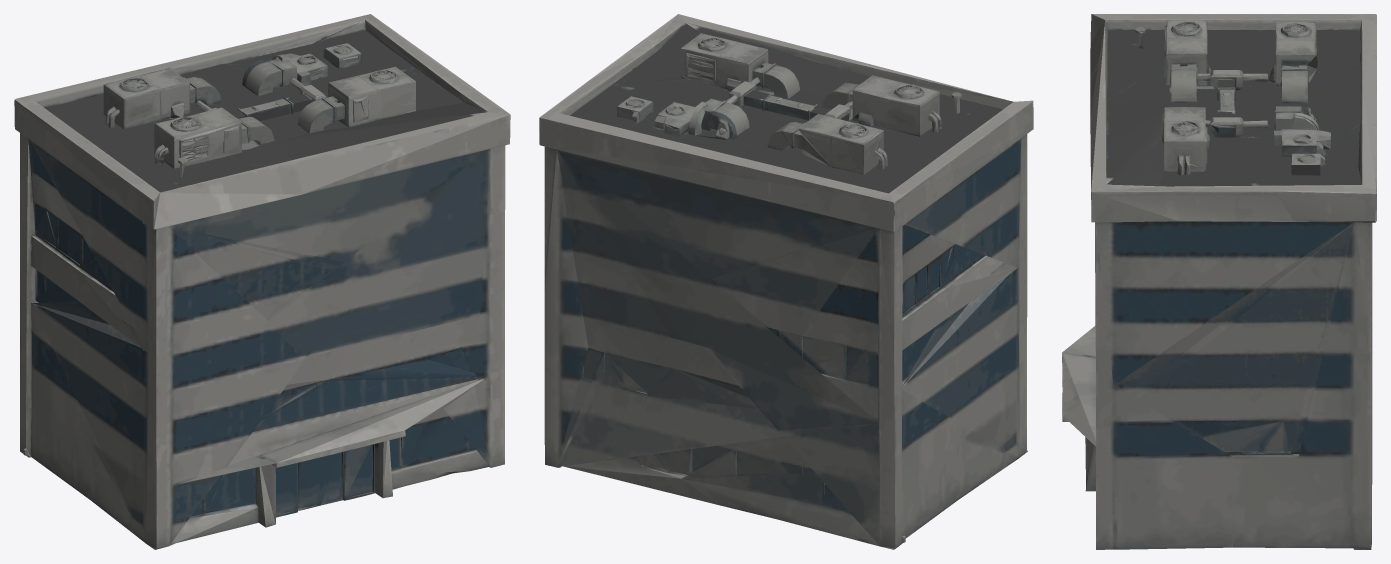
File: dea.glb
The picture shows the model from 3 angles, left to right: view 1: azimuth 30°, elevation 25°; view 2: azimuth 150°, elevation 25°; view 3: azimuth 270°, elevation 25°; orthographic projection. The views are drawn at different scales.
Parts seen in each view (by area): view 1: placed; view 2: placed; view 3: placed.
Boxes of the visible parts, <box> form: placed: <box>14,14,510,549</box>; placed: <box>539,14,1033,549</box>; placed: <box>1062,14,1376,549</box>.
Bounding box in the file's own units: 26 × 26.15 × 19.34.
Materials: 1 (1 with a texture image).
